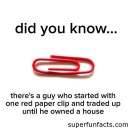Metal: (25, 49, 99, 80)
